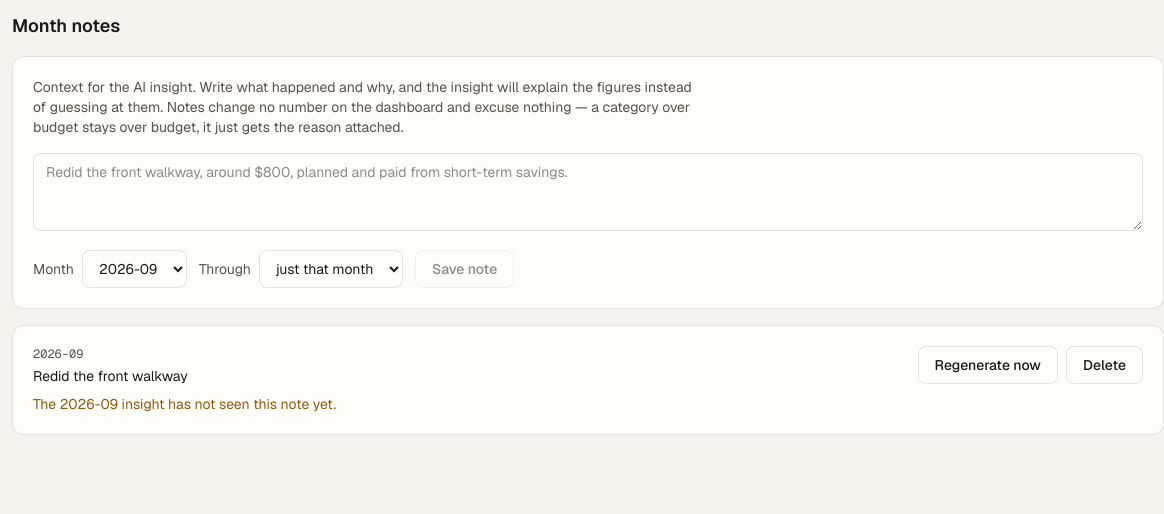
Scenario: a failed job reports why, even when the reload fails too
Check: the text "Redid the front walkway" is shown, box [33,367,188,385]
Click the button "Regenerate now". click: (988, 365)
box: [918,346,1058,384]
Wait 2000 ms
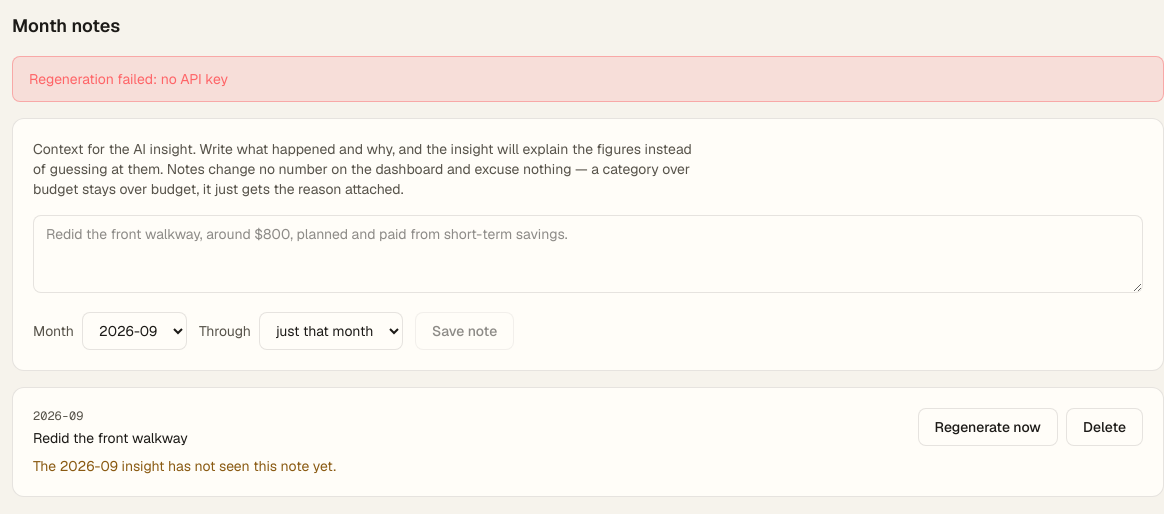
Check: the text "Regeneration failed: no API key" is shown, box [12,56,1163,102]
